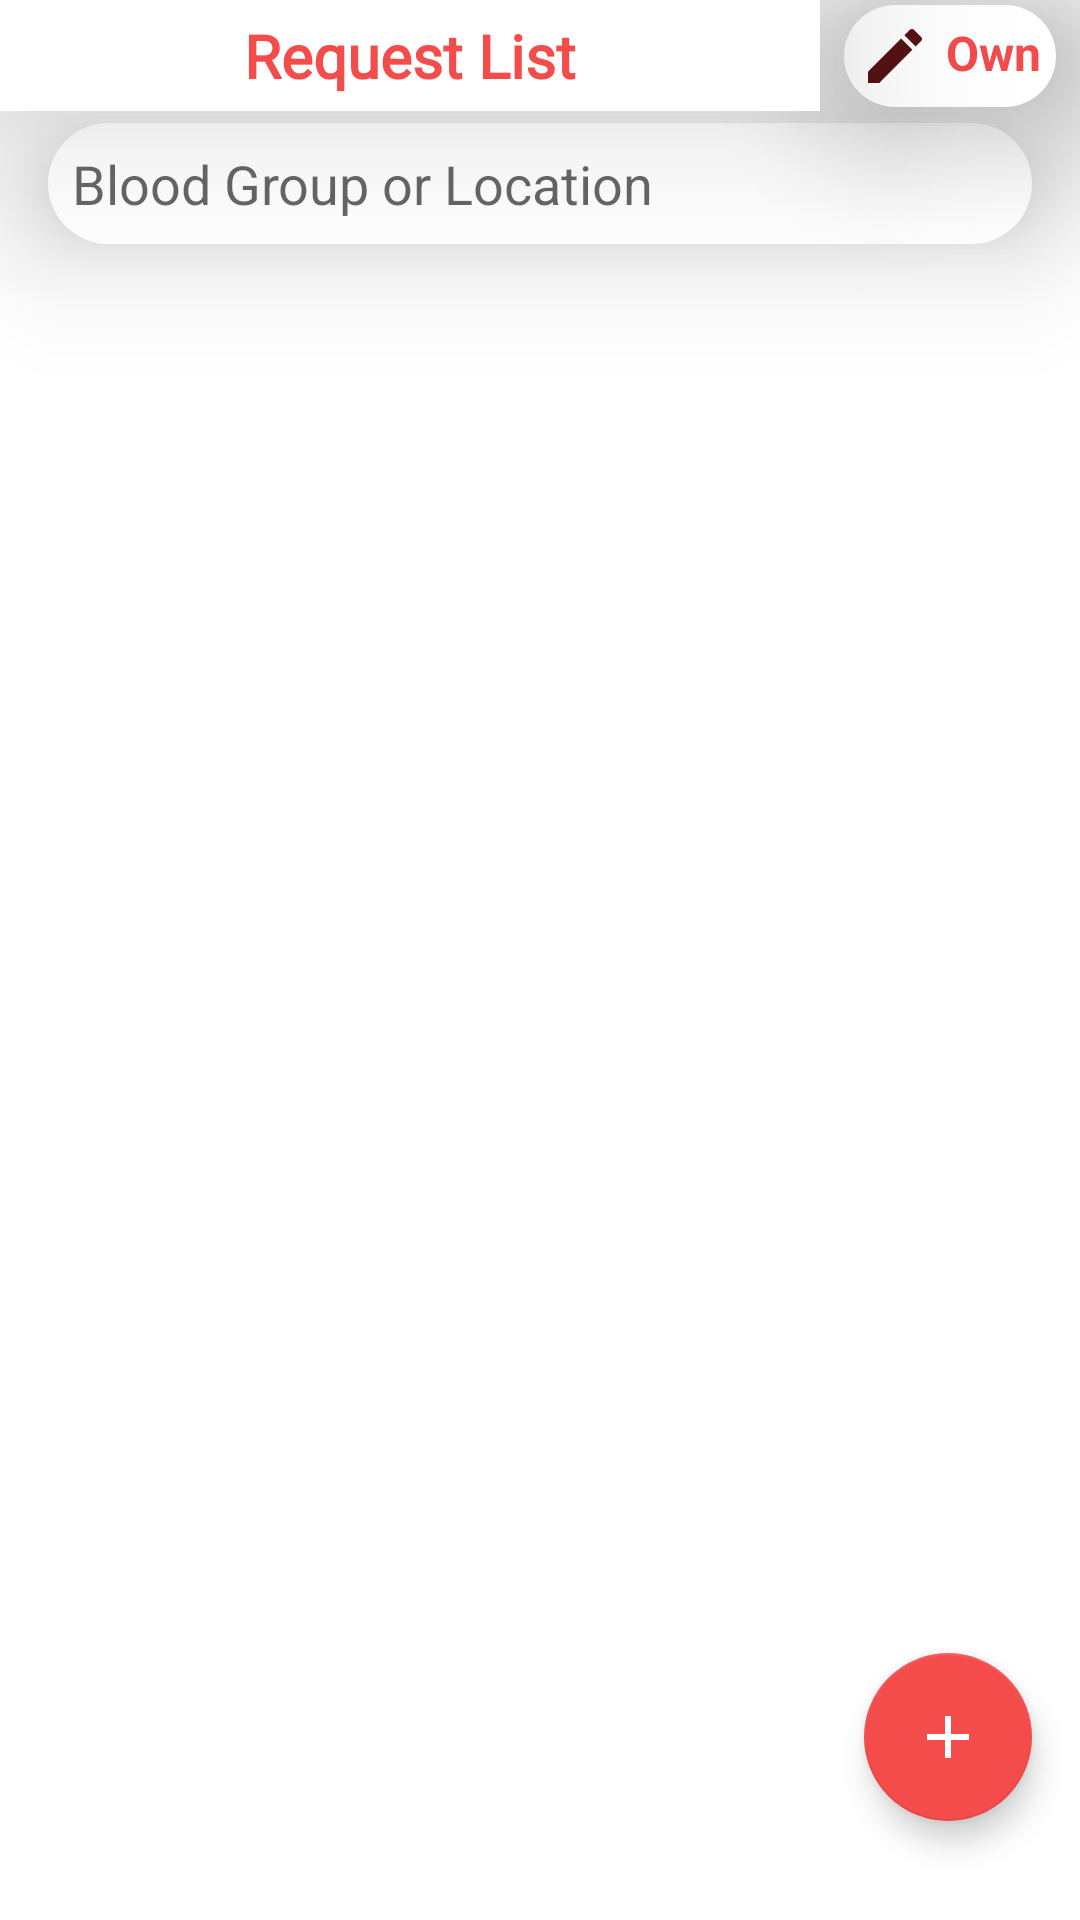

Screen size 1080*1920. Icon name, then its box in pixels as [x1,y1,x2,y2]:
add: [864,1653,1032,1821]
